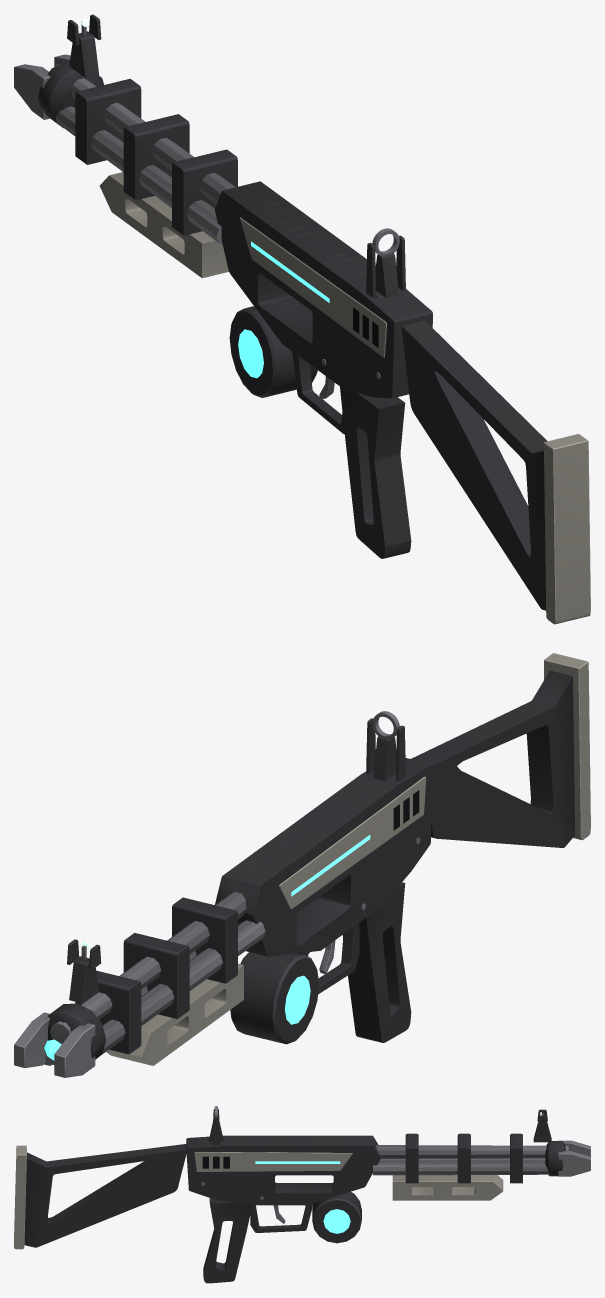
The model's file is e_scatter.glb.
3 views of the same model, one above another, from view 1: azimuth 30°, elevation 25°; view 2: azimuth 150°, elevation 25°; view 3: azimuth 270°, elevation 25° (orthographic). The views are drawn at different scales.
Parts seen in each view (by area): view 1: Body, ThirdPersonOnly, Cell, IronSight; view 2: Body, ThirdPersonOnly, Cell, IronSight; view 3: Body, ThirdPersonOnly, Cell, IronSight.
Boxes of the visible parts, x1=… form: Body: x1=14, y1=54, x2=432, y2=558; ThirdPersonOnly: x1=402, y1=320, x2=590, y2=624; Cell: x1=229, y1=306, x2=317, y2=397; IronSight: x1=67, y1=14, x2=405, y2=298; Body: x1=14, y1=758, x2=432, y2=1077; ThirdPersonOnly: x1=411, y1=653, x2=590, y2=847; Cell: x1=230, y1=952, x2=318, y2=1044; IronSight: x1=67, y1=711, x2=405, y2=1003; Body: x1=186, y1=1133, x2=590, y2=1283; ThirdPersonOnly: x1=14, y1=1144, x2=186, y2=1249; Cell: x1=312, y1=1191, x2=361, y2=1243; IronSight: x1=209, y1=1106, x2=551, y2=1144.
Bounding box in the file's own units: 0.0544 × 0.2922 × 0.8839.
